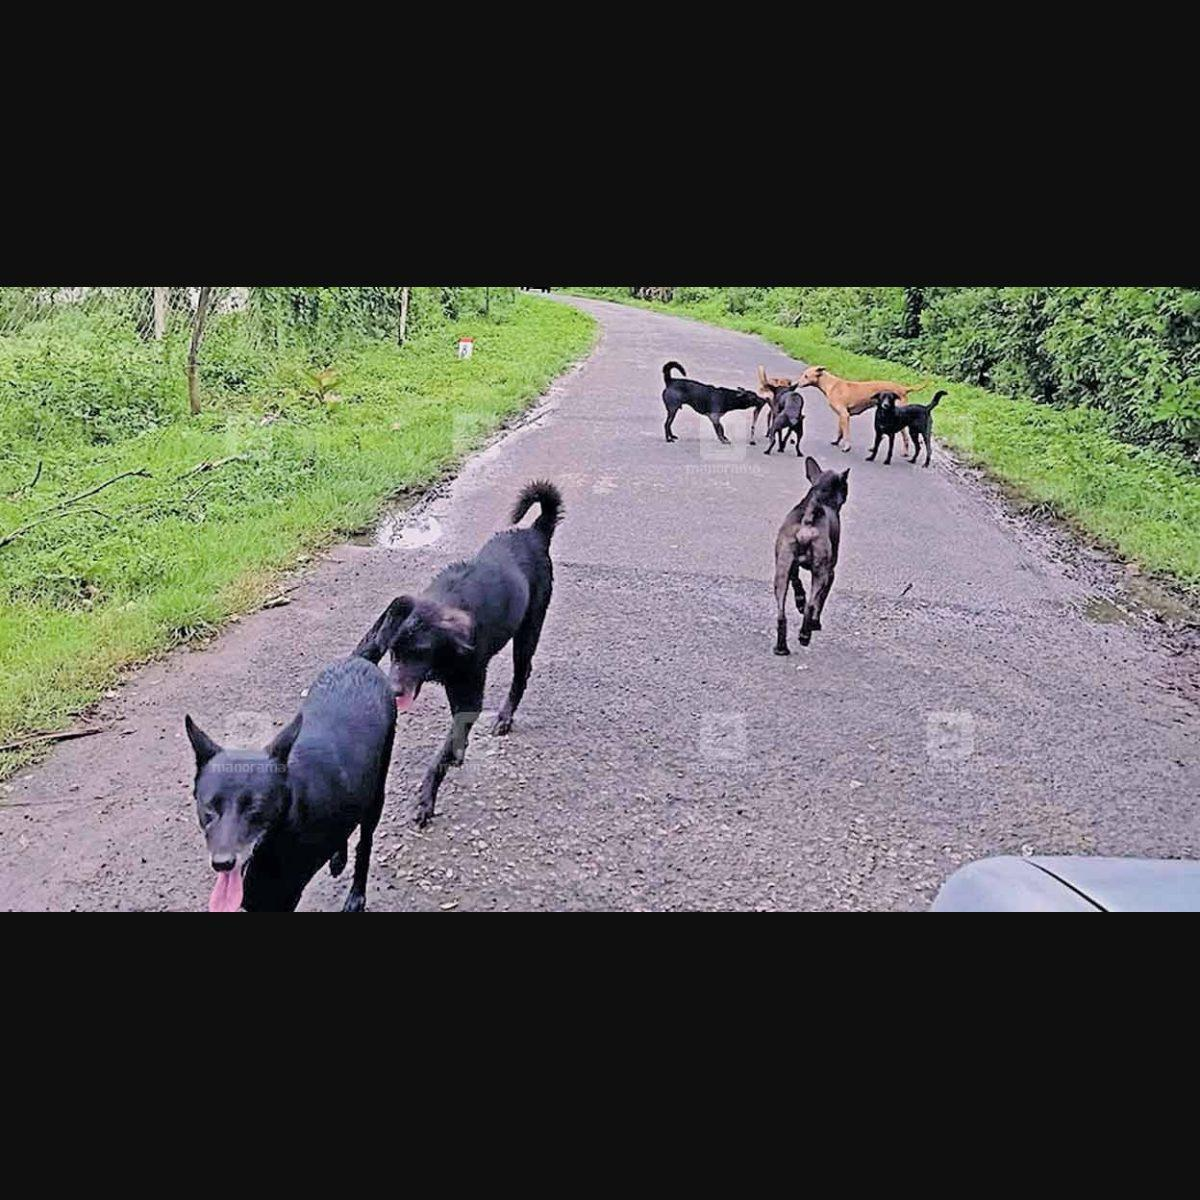dog_aggressive: (178, 597, 422, 930), (385, 449, 613, 797), (625, 346, 757, 458), (775, 389, 810, 452)
normal_dogs: (758, 452, 870, 662), (801, 364, 933, 458), (853, 387, 980, 480), (757, 358, 800, 409)
